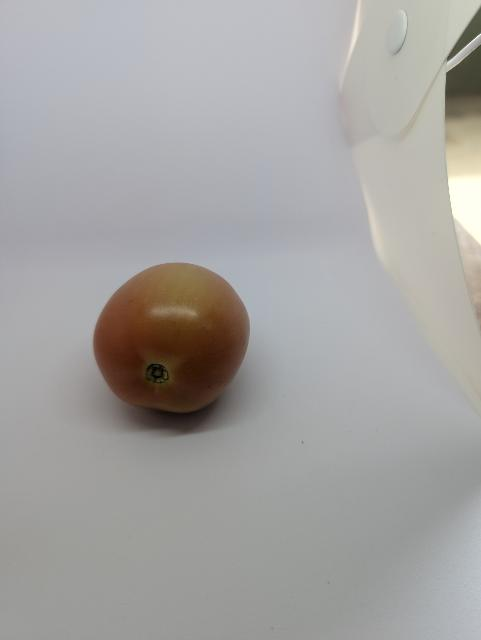red: (85, 255, 267, 424)
